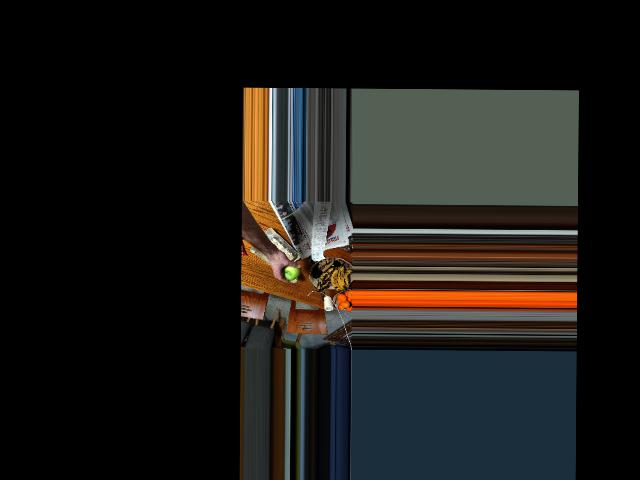apple: (278, 259, 301, 280)
